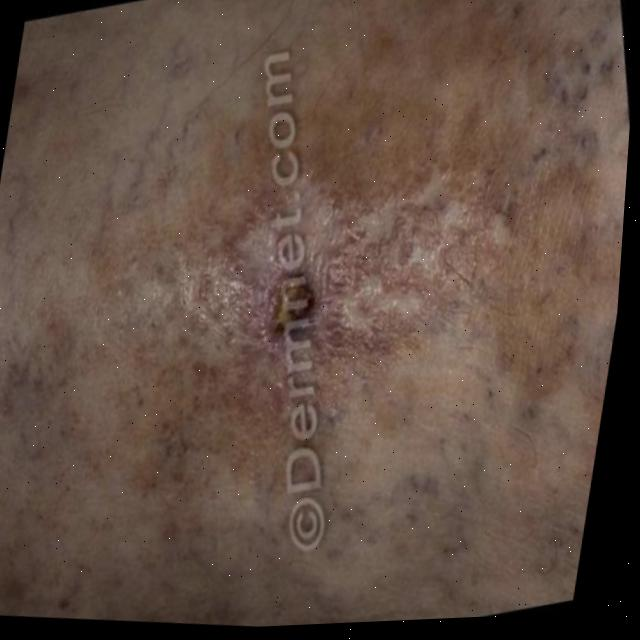Eczema: (7, 0, 609, 638)
